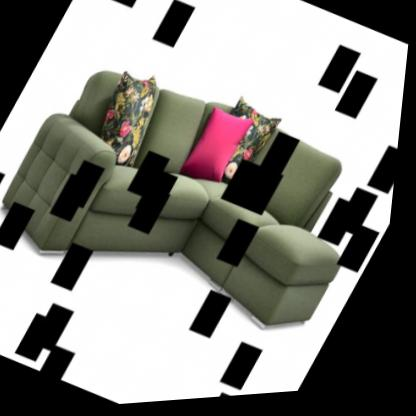Sofa: (0, 21, 408, 371)
